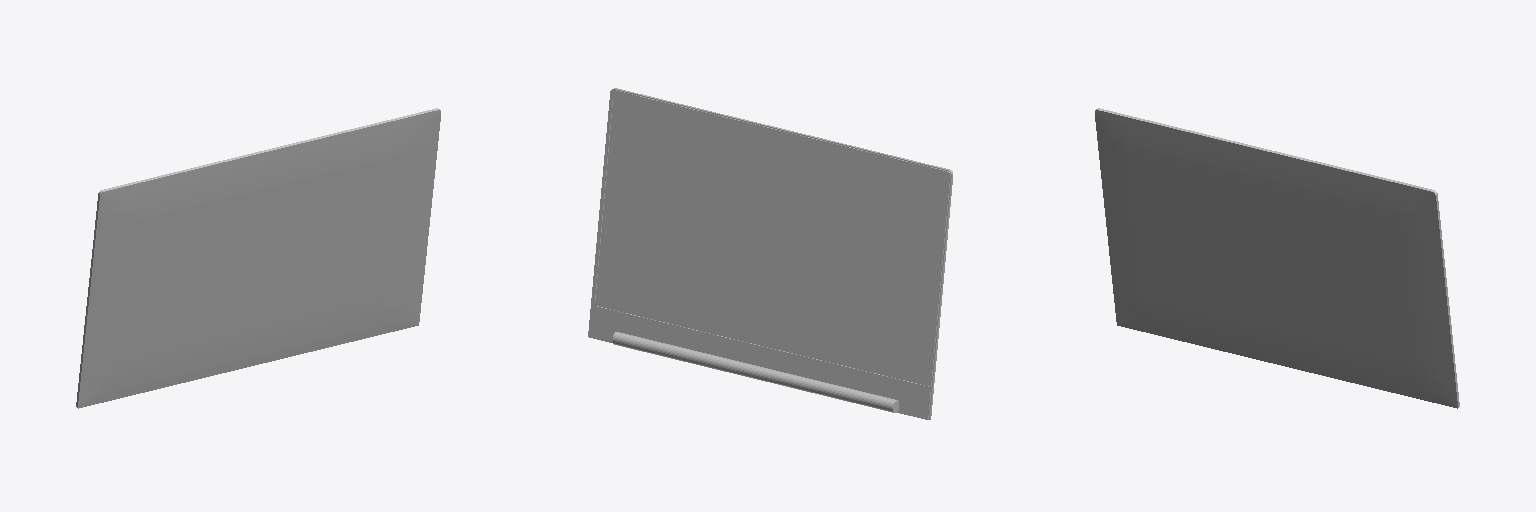
The model's file is sc3_laptopdeckel.obj.
The picture shows the model from 3 angles: view 1: azimuth 30°, elevation 25°; view 2: azimuth 150°, elevation 25°; view 3: azimuth 330°, elevation 25°; orthographic projection.
Visible parts, largest first — view 1: Plane.001; view 2: Plane.001; view 3: Plane.001.
Boxes of the visible parts, x1=… form: Plane.001: x1=76, y1=108, x2=440, y2=408; Plane.001: x1=588, y1=88, x2=952, y2=419; Plane.001: x1=1095, y1=108, x2=1459, y2=408.
Size of the model in its own units: 0.8375 by 0.5469 by 0.1281.